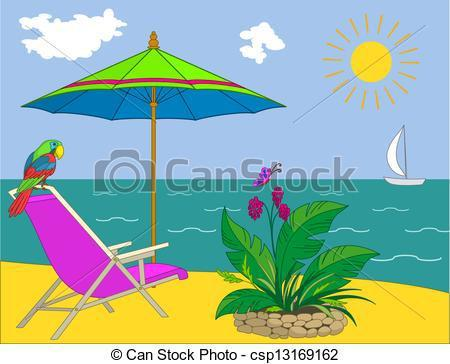bird: (4, 135, 65, 218)
boat: (373, 118, 430, 189)
chair: (3, 183, 191, 340)
